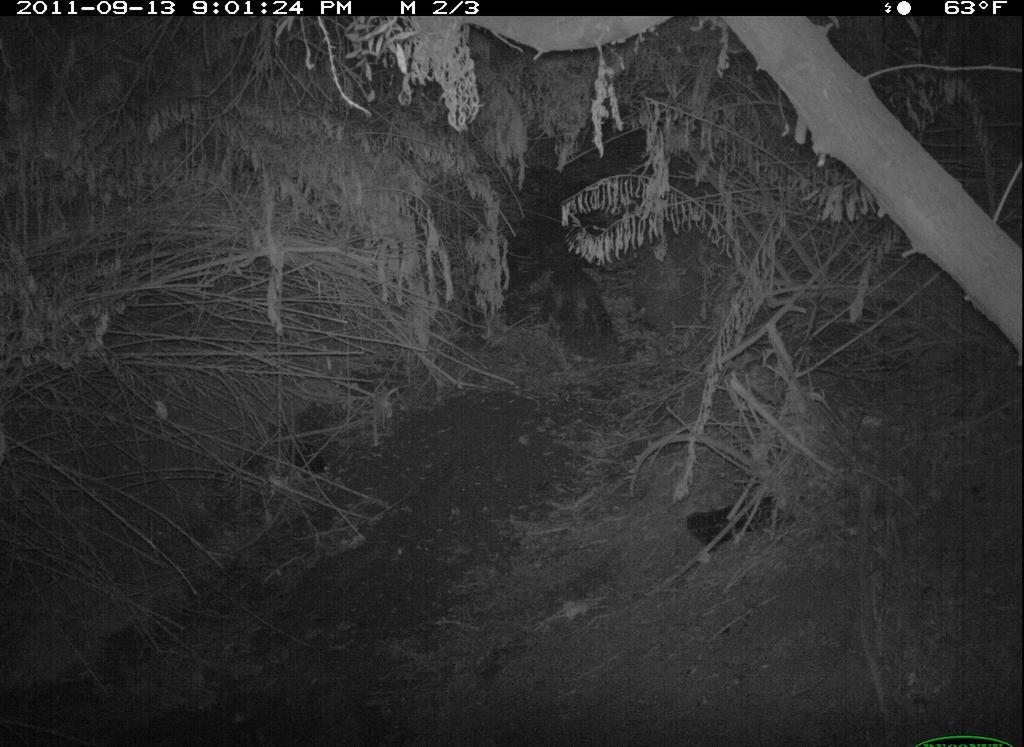raccoon: (534, 255, 634, 363)
